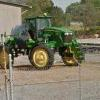Tractor: (9, 10, 85, 75)
